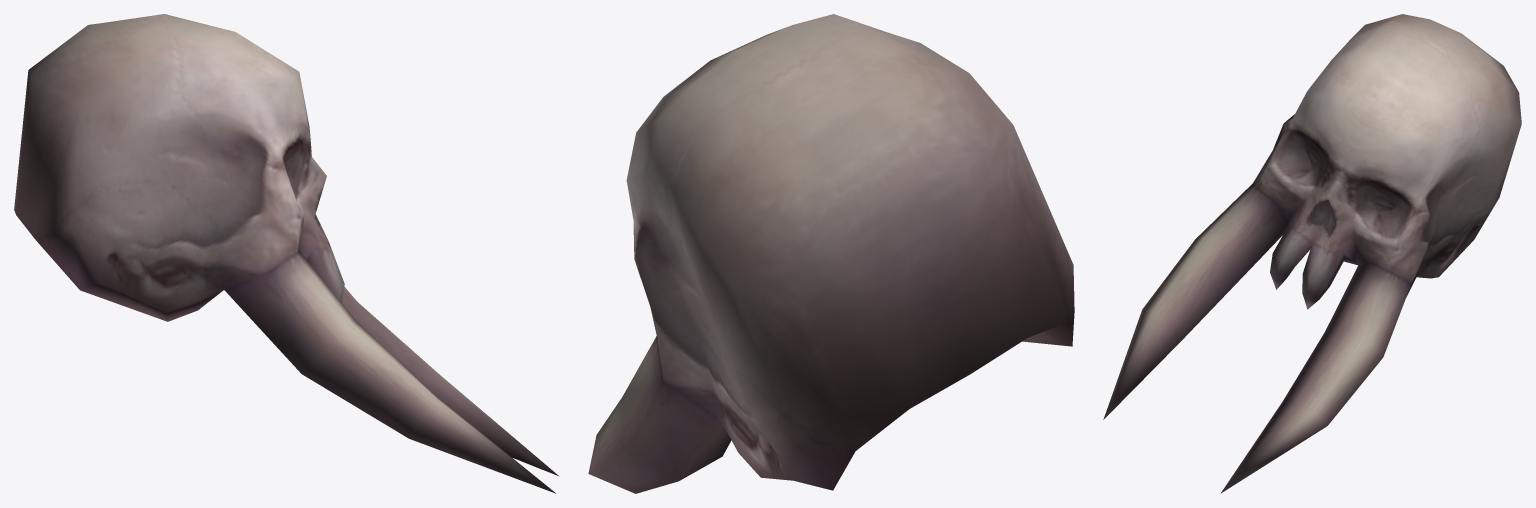
The model's file is area_13_6.FBX.
3 views of the same model, side by side, from view 1: azimuth 30°, elevation 25°; view 2: azimuth 150°, elevation 25°; view 3: azimuth 270°, elevation 25° (orthographic). The views are drawn at different scales.
Parts seen in each view (by area): view 1: area_13_6; view 2: area_13_6; view 3: area_13_6.
Part boxes in pixels (x1,y1,x2,y2): area_13_6: (14, 14, 559, 493); area_13_6: (588, 14, 1074, 493); area_13_6: (1103, 14, 1521, 493).
Bounding box in the file's own units: 18.01 × 17.73 × 19.14.
